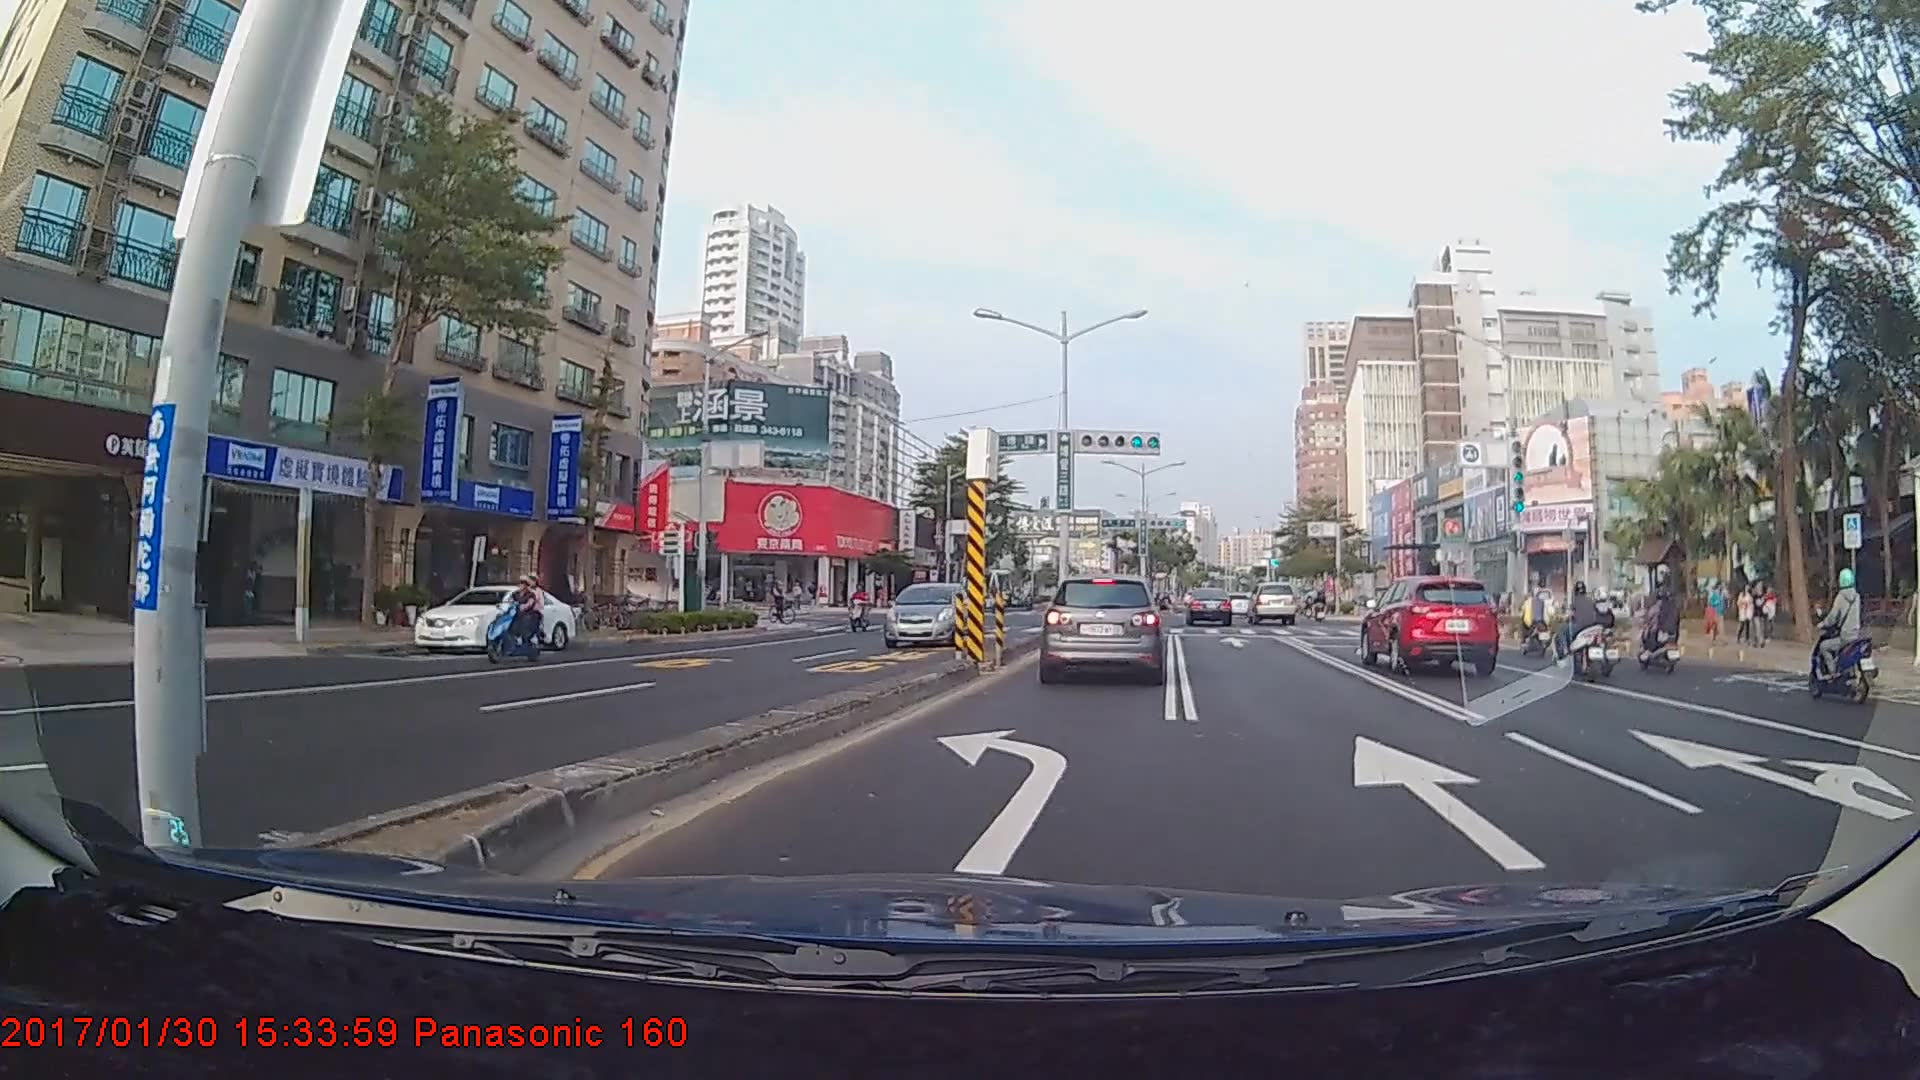pedestrian: (1705, 580, 1729, 649), (1753, 581, 1773, 645), (1737, 581, 1757, 644)
rider: (1805, 568, 1884, 706), (479, 570, 553, 669), (1549, 574, 1616, 678), (1632, 584, 1684, 673), (844, 576, 872, 637), (766, 576, 796, 629)
vehicle: (1359, 570, 1504, 677), (1037, 571, 1165, 685), (413, 583, 576, 656), (882, 581, 976, 647), (1247, 581, 1297, 625), (1184, 587, 1233, 627)
